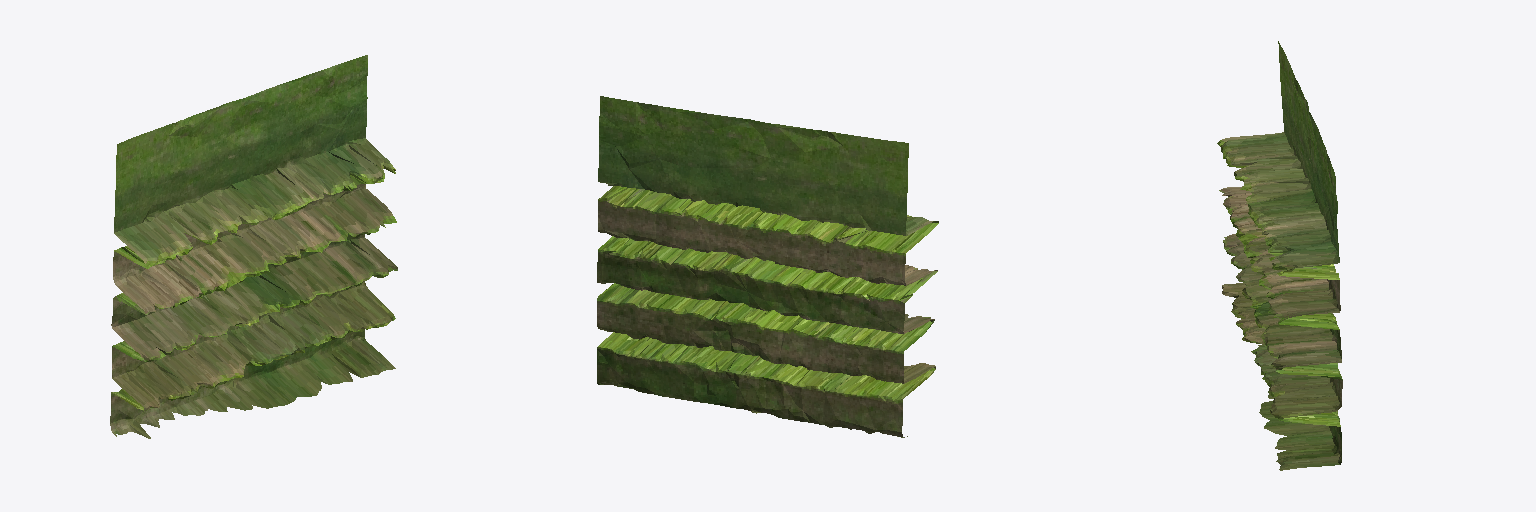
3 renders of one model, left to right at view 1: azimuth 30°, elevation 25°; view 2: azimuth 150°, elevation 25°; view 3: azimuth 270°, elevation 25°, orthographic.
Parts seen in each view (by area): view 1: grp1; view 2: grp1; view 3: grp1.
Boxes of the visible parts, x1=… form: grp1: x1=110, y1=55, x2=397, y2=438; grp1: x1=597, y1=96, x2=938, y2=437; grp1: x1=1217, y1=41, x2=1342, y2=470.
Bounding box in the file's own units: 10 × 10 × 3.89.
Materials: 1 (1 with a texture image).